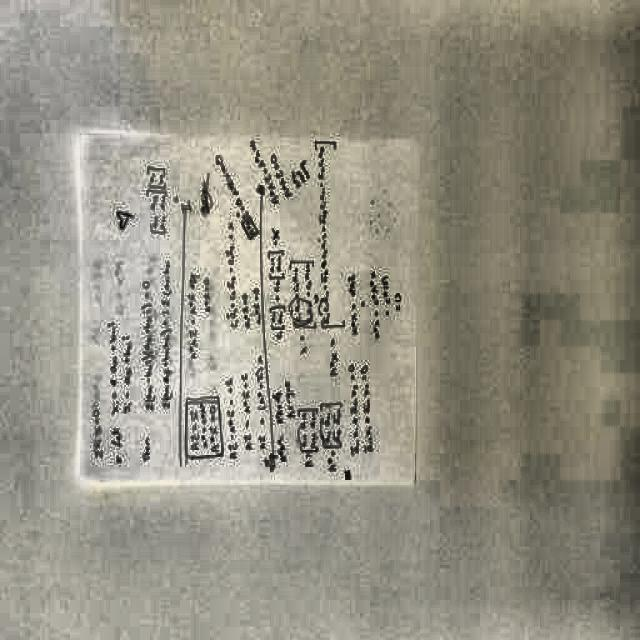paper: (69, 122, 428, 503)
